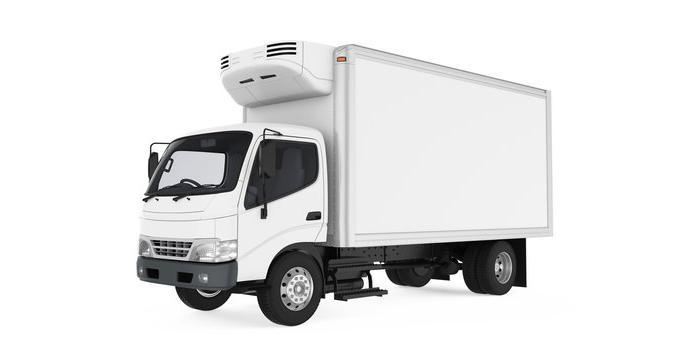truck: (137, 41, 555, 326)
